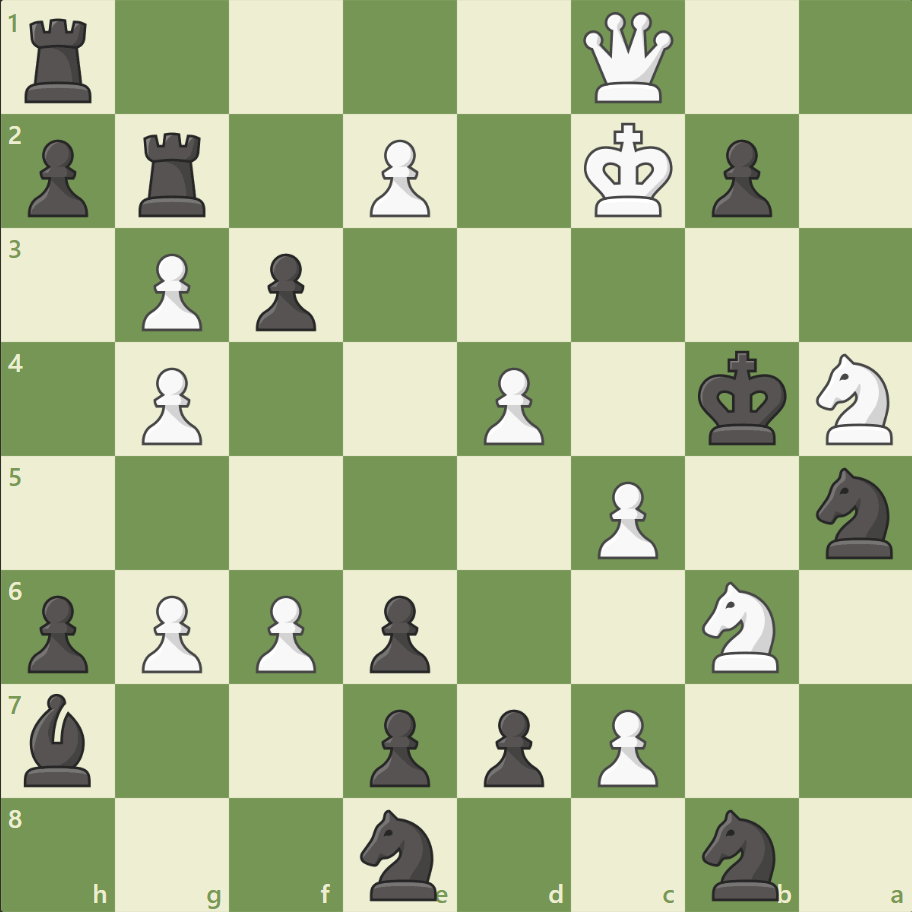K: (579, 117, 679, 225)
N: (692, 575, 789, 677), (806, 348, 903, 450)
P: (247, 586, 322, 677), (133, 586, 208, 677), (474, 359, 549, 450), (133, 359, 208, 450), (133, 246, 208, 337), (588, 700, 662, 791), (588, 473, 662, 564), (361, 132, 435, 223)
Q: (578, 9, 677, 108)
b: (17, 687, 101, 790)
k: (692, 344, 792, 452)
n: (351, 802, 449, 904), (806, 461, 903, 564), (692, 802, 789, 904)
p: (474, 700, 549, 791), (20, 586, 95, 677), (247, 246, 322, 337), (701, 132, 776, 223), (20, 132, 95, 223), (361, 700, 435, 791), (361, 586, 435, 677)
r: (19, 12, 102, 109), (133, 125, 215, 222)
